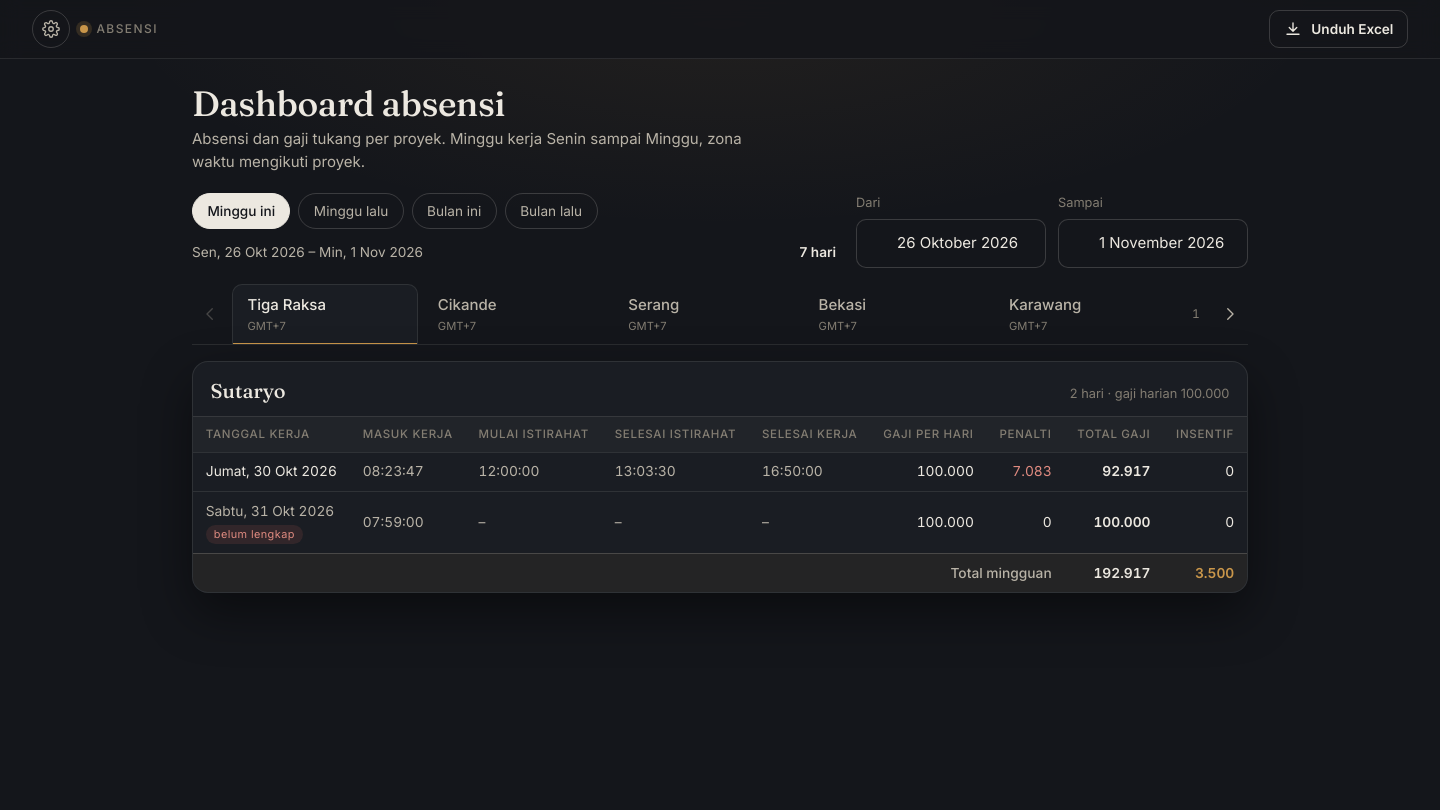
Test: the gear opens the payroll settings and saving them reloads the attendance
expect the element "Sutaryo" is shown: met, box left=192, top=361, right=1248, bottom=593
Click the button named "Pengaturan gaji" at [51, 29], box left=32, top=10, right=70, bottom=48
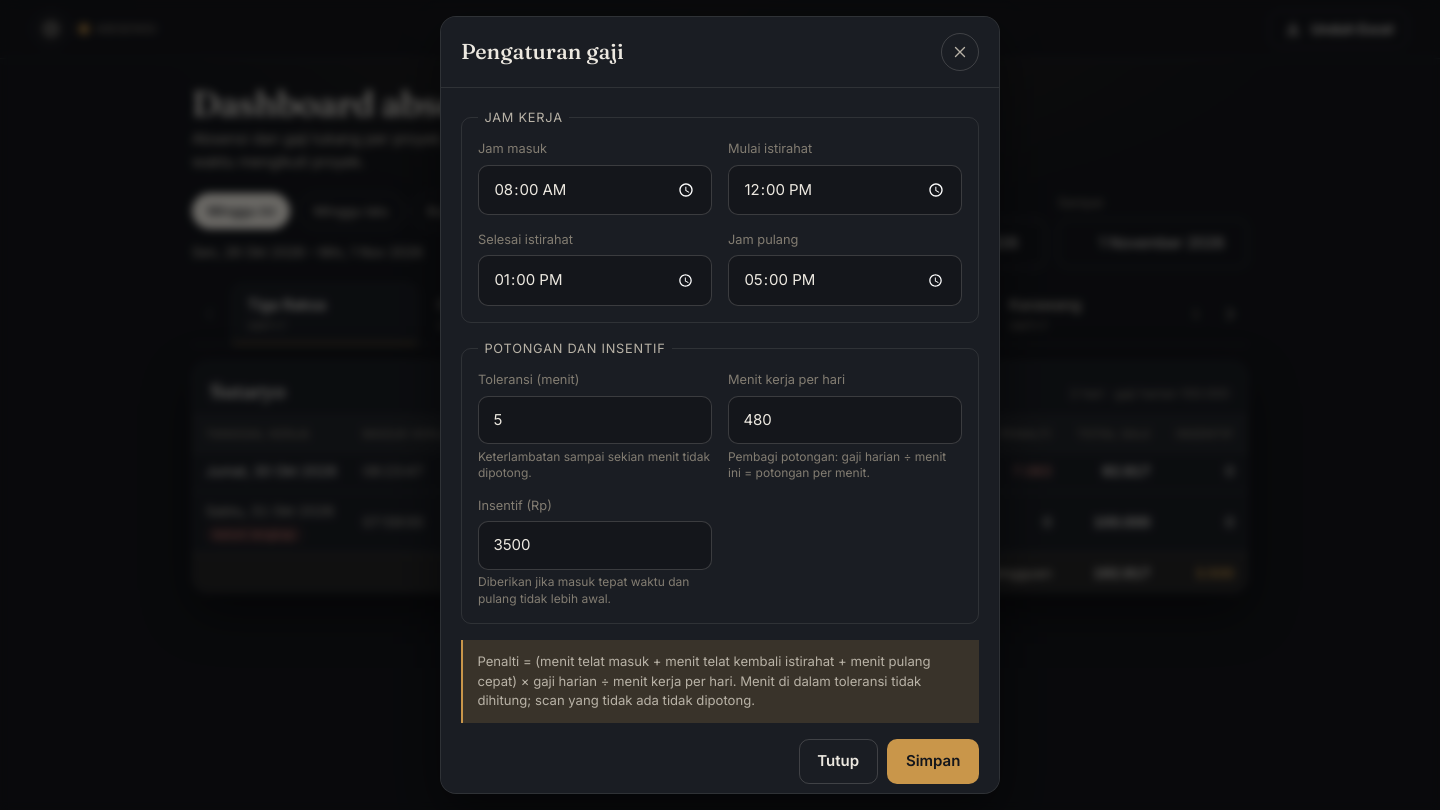
expect the number field labelled "Toleransi (menit)" holds "5": met
expect the time field labelled "Jam masuk" holds "08:00": met, box left=478, top=165, right=712, bottom=215
Replace the text in the number field labelled "Toleransi (menit)" with "10" at [595, 420], box left=478, top=396, right=712, bottom=444
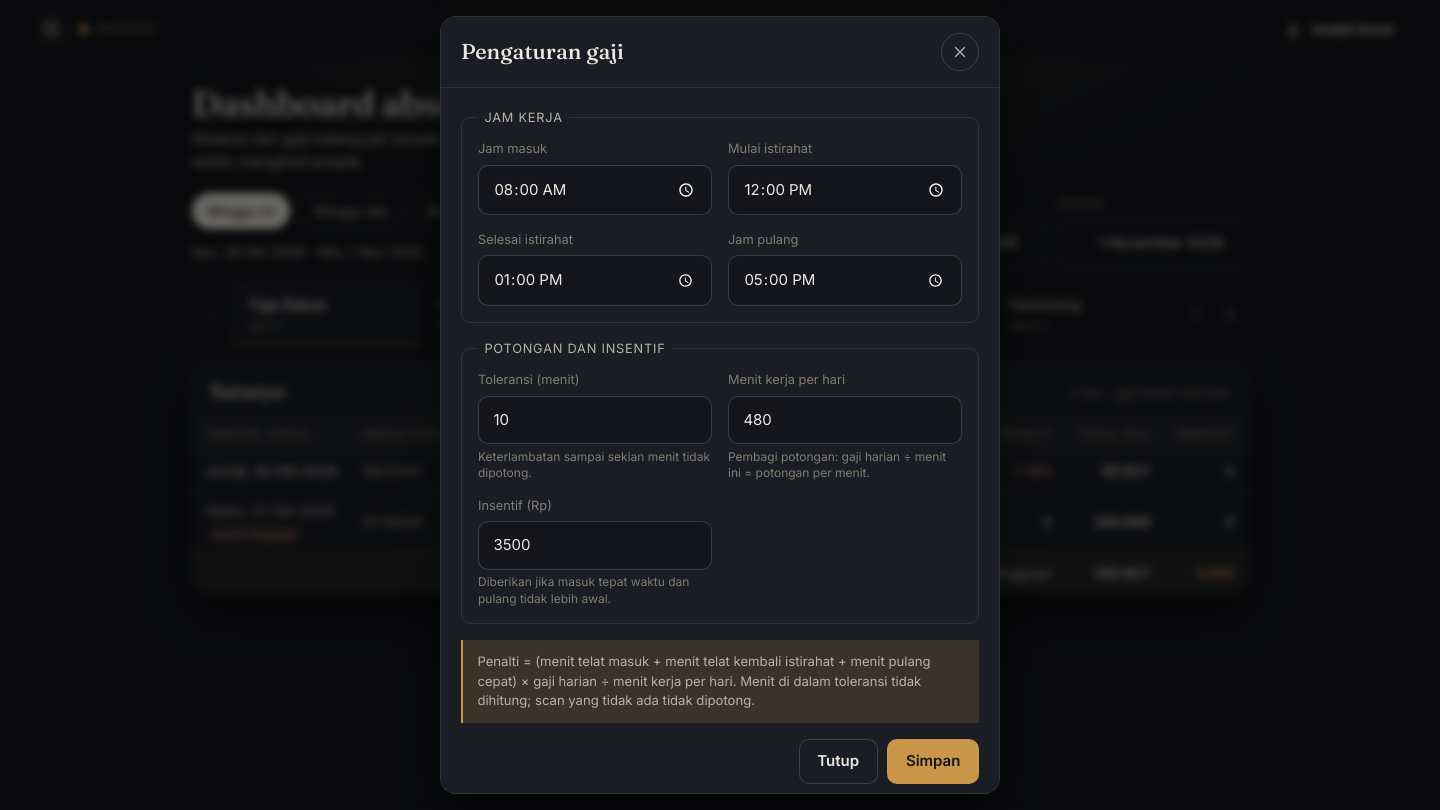
Click the button "Simpan" at [933, 762], box left=887, top=739, right=979, bottom=784
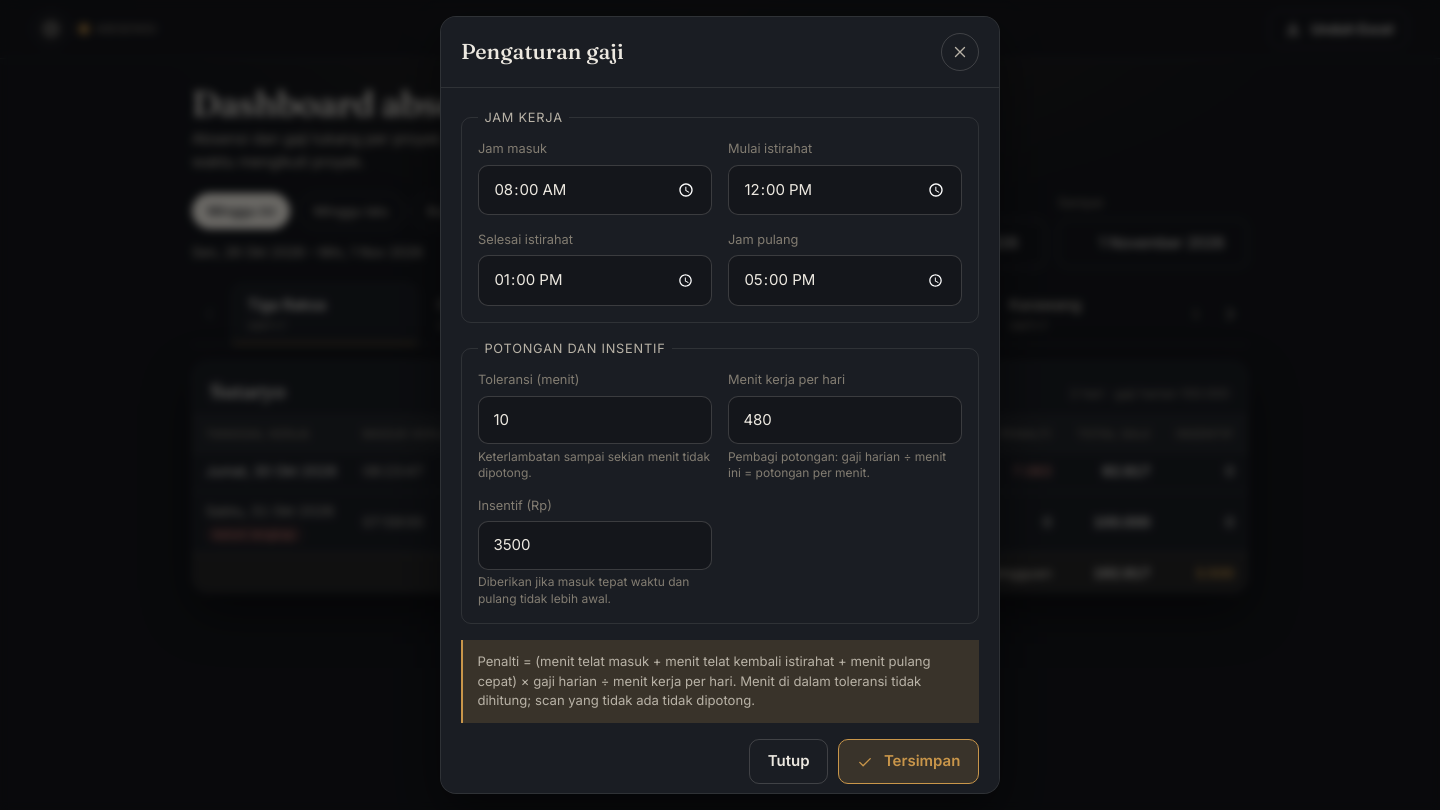
expect the button "Tersimpan" is shown: met, box left=838, top=739, right=979, bottom=784
